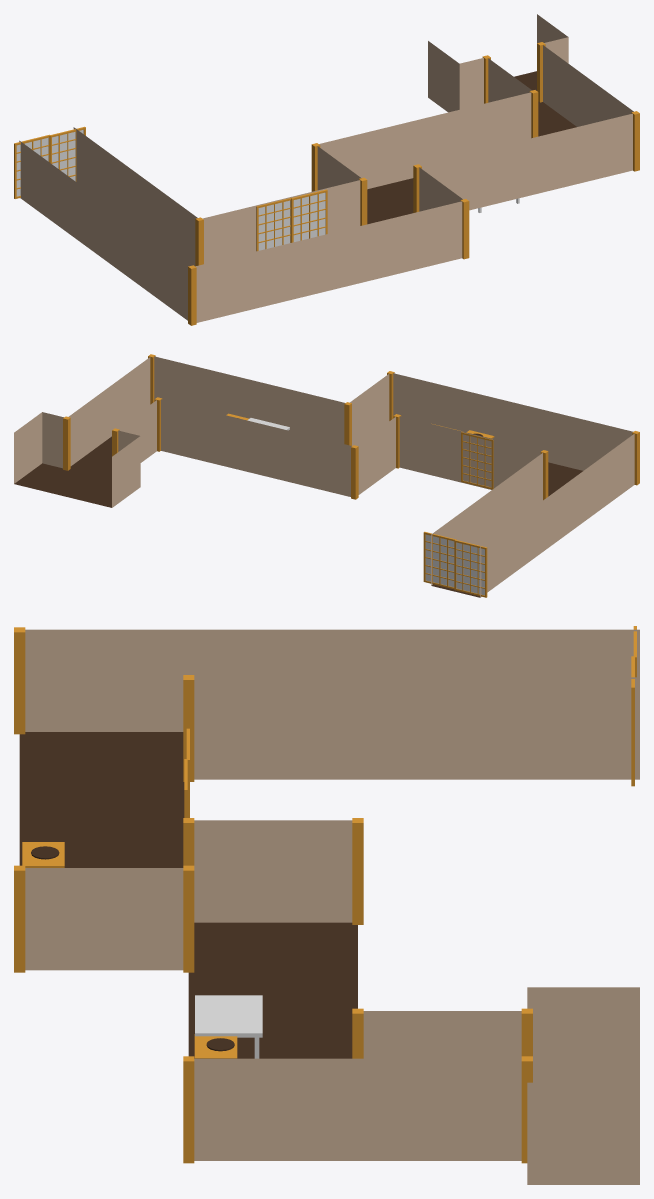
File: Takeda_stage.fbx
The picture shows the model from 3 angles, top to bottom: view 1: azimuth 30°, elevation 25°; view 2: azimuth 150°, elevation 25°; view 3: azimuth 270°, elevation 25°; orthographic projection. The views are drawn at different scales.
Parts seen in each view (by area): view 1: 平面, paper, paper.001, paper.002, paper.003, 立方体.008, 立方体.007; view 2: 平面, paper.003, paper.002, paper.001, 立方体.004, 立方体; view 3: 平面, ita, 立方体.002, 立方体.006, 立方体.007, 立方体.008, 立方体.004, 立方体.009, 立方体, ita.001.
Boxes of the visible parts, left/top/right/bottom form: 平面: left=19, top=14, right=633, bottom=322; paper: left=291, top=189, right=327, bottom=242; paper.001: left=256, top=197, right=291, bottom=251; paper.002: left=49, top=126, right=85, bottom=181; paper.003: left=14, top=134, right=49, bottom=198; 立方体.008: left=188, top=265, right=196, bottom=325; 立方体.007: left=460, top=199, right=469, bottom=259; 平面: left=14, top=356, right=634, bottom=597; paper.003: left=454, top=540, right=487, bottom=597; paper.002: left=423, top=531, right=456, bottom=589; paper.001: left=461, top=432, right=493, bottom=489; 立方体.004: left=351, top=445, right=358, bottom=499; 立方体: left=63, top=416, right=70, bottom=470; 平面: left=19, top=629, right=639, bottom=1184; ita: left=195, top=995, right=262, bottom=1058; 立方体.002: left=183, top=1056, right=194, bottom=1163; 立方体.006: left=183, top=865, right=194, bottom=972; 立方体.007: left=14, top=865, right=25, bottom=972; 立方体.008: left=14, top=627, right=25, bottom=734; 立方体.004: left=352, top=818, right=363, bottom=924; 立方体.009: left=183, top=675, right=194, bottom=781; 立方体: left=521, top=1056, right=532, bottom=1163; ita.001: left=22, top=842, right=64, bottom=867.
Size of the model in its own units: 1922 by 227 by 1110.
